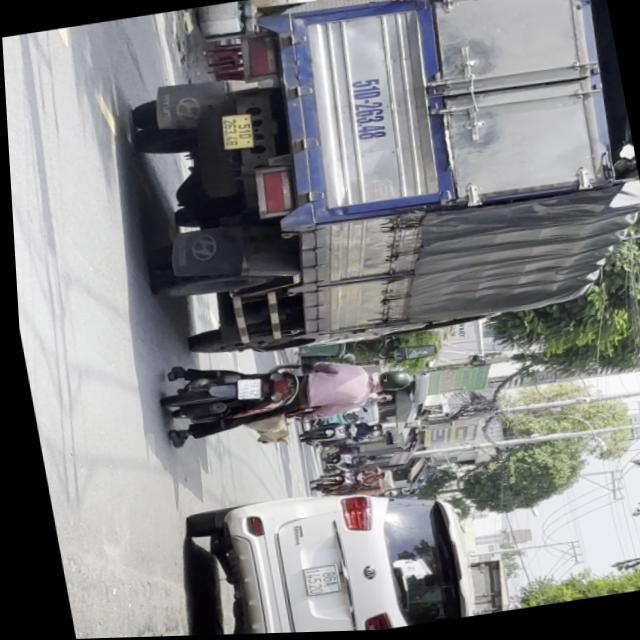helmet: (366, 367, 409, 395)
licenseplate: (148, 335, 417, 451)
nohelmet: (229, 377, 258, 402)
